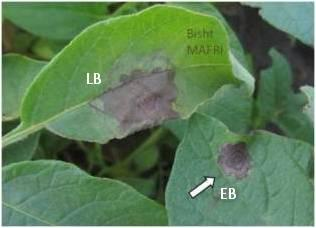Potato leaf late blight: (18, 3, 237, 145), (162, 109, 316, 219)
